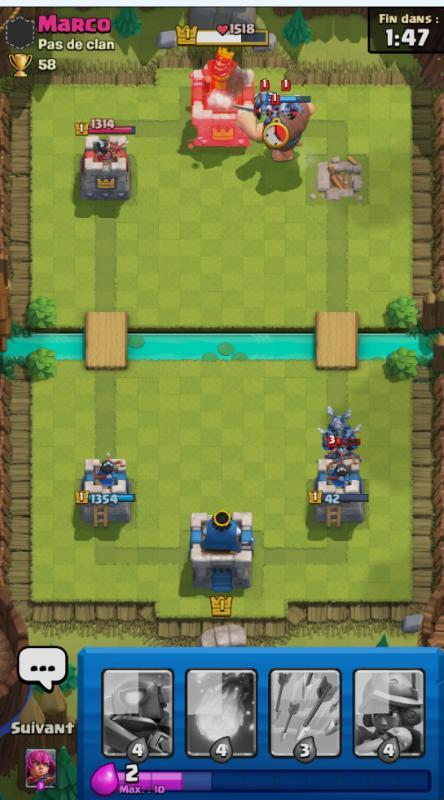enemy_minions: (252, 80, 275, 113), (279, 100, 303, 119)
player_giant: (236, 116, 313, 171)
player_minions: (339, 423, 364, 451), (326, 408, 354, 432), (319, 425, 339, 451)
